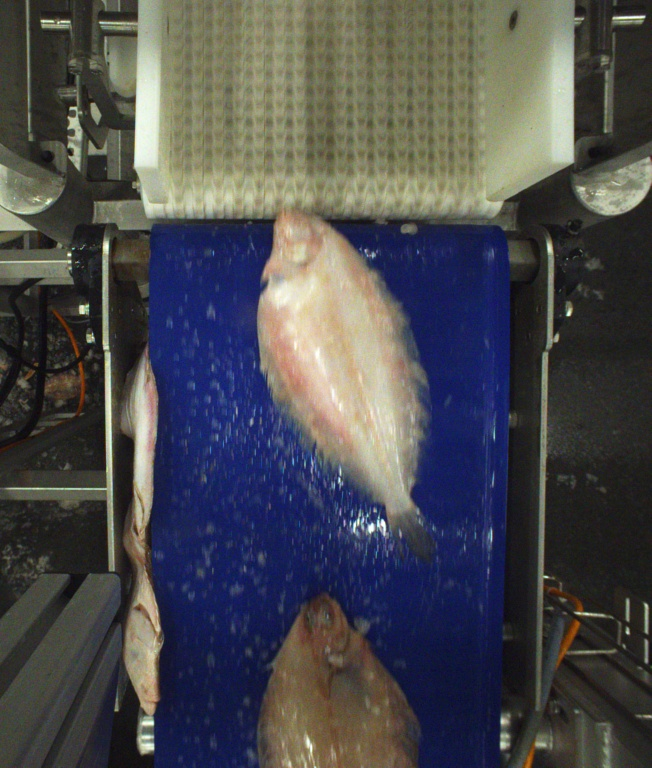WIT: (260, 377, 294, 410)
